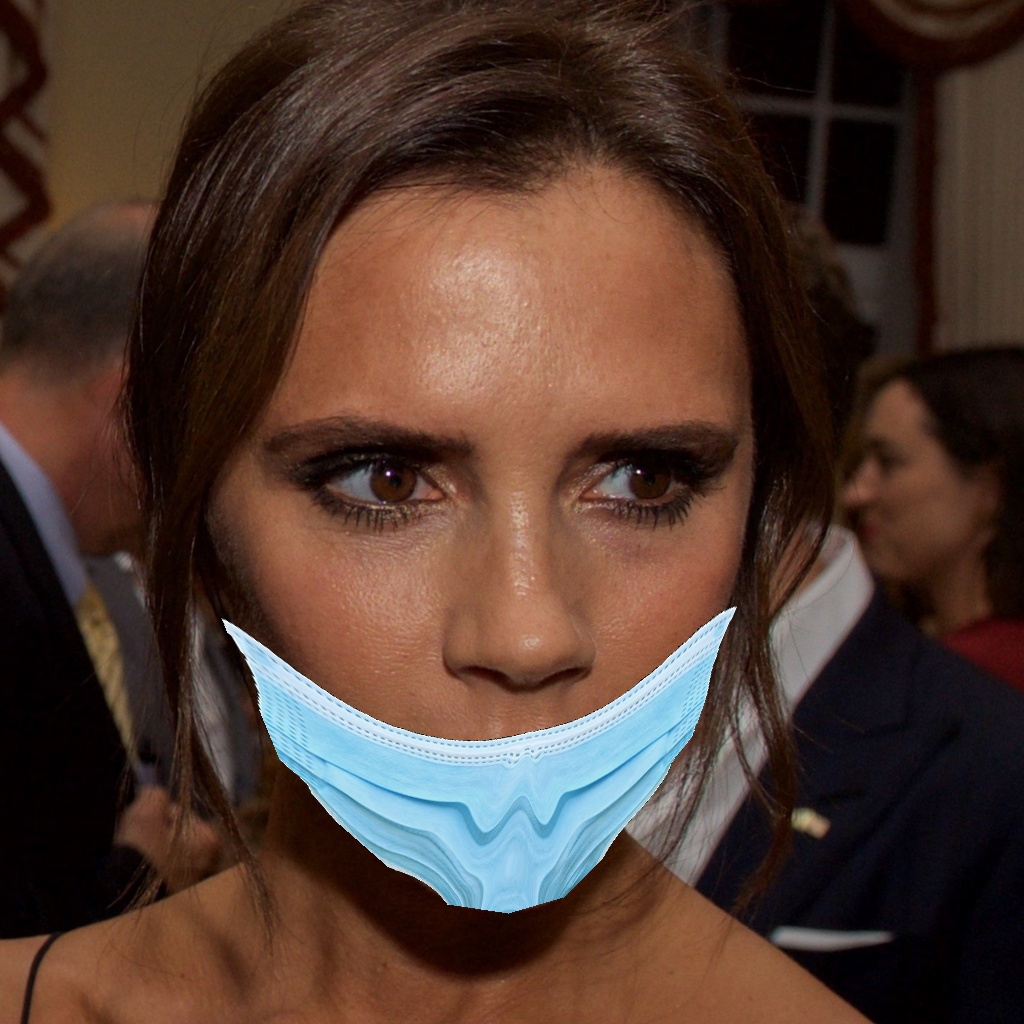mask_weared_incorrect: (206, 379, 759, 933)
